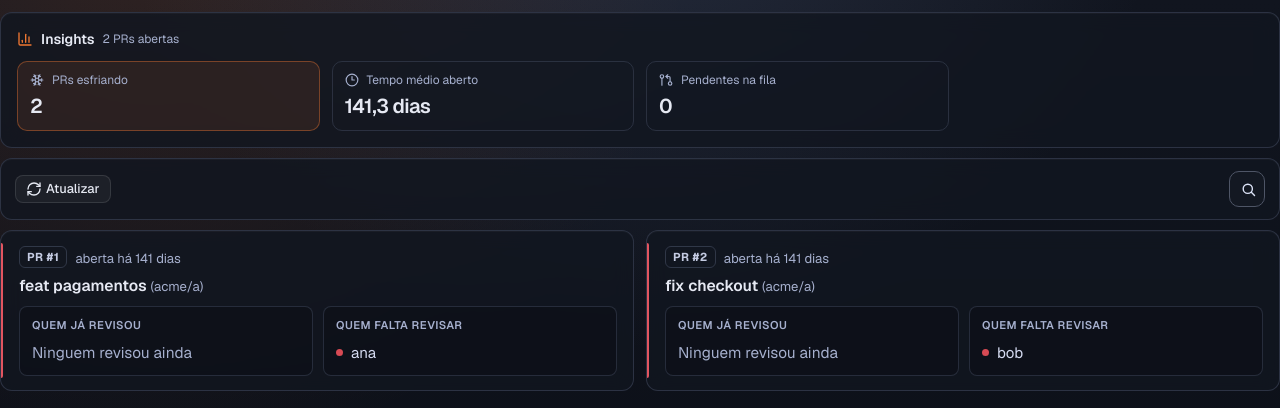
Scenario: PrMonitorPage › filtra PRs carregadas pela busca com debounce
Expected: the link "feat pagamentos (acme/a)" is shown, x1=19 y1=275 x2=203 y2=296
Expected: the link "fix checkout (acme/a)" is shown, x1=665 y1=275 x2=815 y2=296
Click the button named "Buscar PRs". click: [1248, 189]
box: x1=1230 y1=171 x2=1266 y2=207
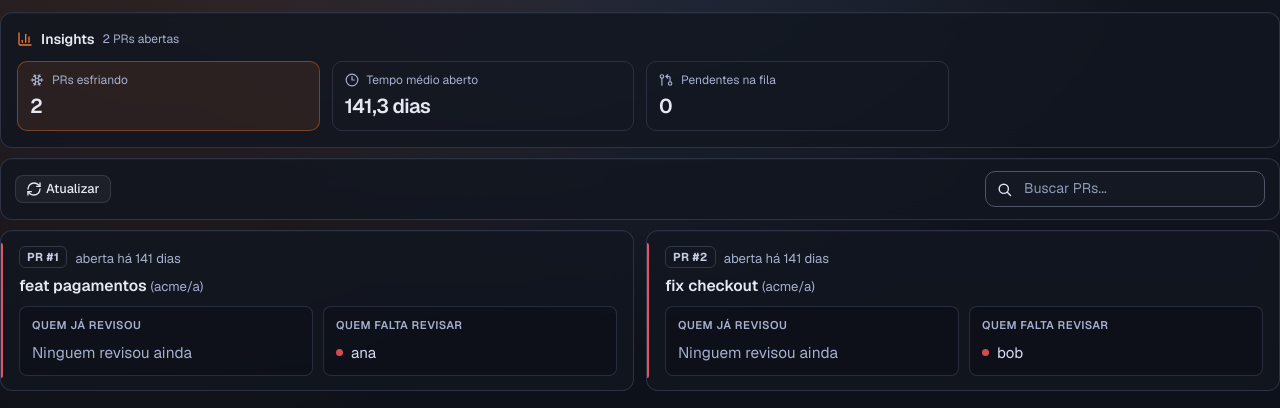
Type "checkout" into the search field named "Filtrar PRs carregadas". click: [1143, 189]
box: x1=1022 y1=178 x2=1264 y2=200
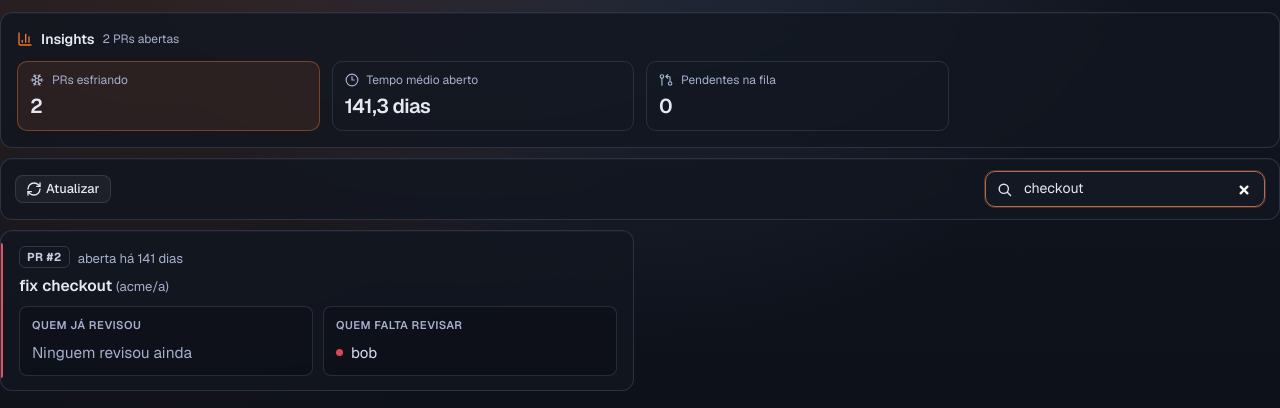
Expected: the link "fix checkout (acme/a)" is shown, x1=19 y1=275 x2=169 y2=296
Expected: the link "feat pagamentos" is gone
